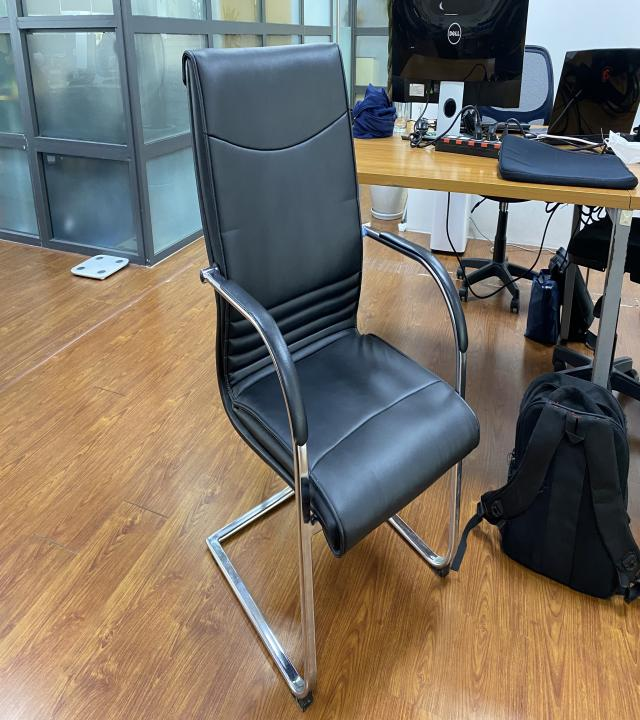SS_03: (178, 39, 481, 713)
